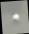Squash-Ball: (1, 0, 29, 34)
